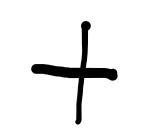plus: (32, 21, 118, 124)
